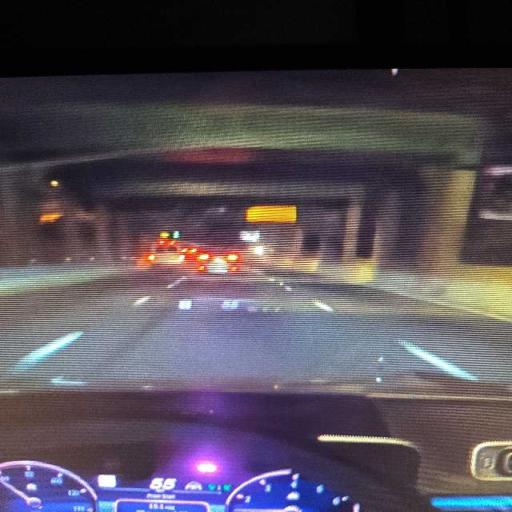car: (196, 251, 242, 273), (148, 245, 184, 266)
lane: (0, 273, 511, 384), (0, 272, 183, 373)
